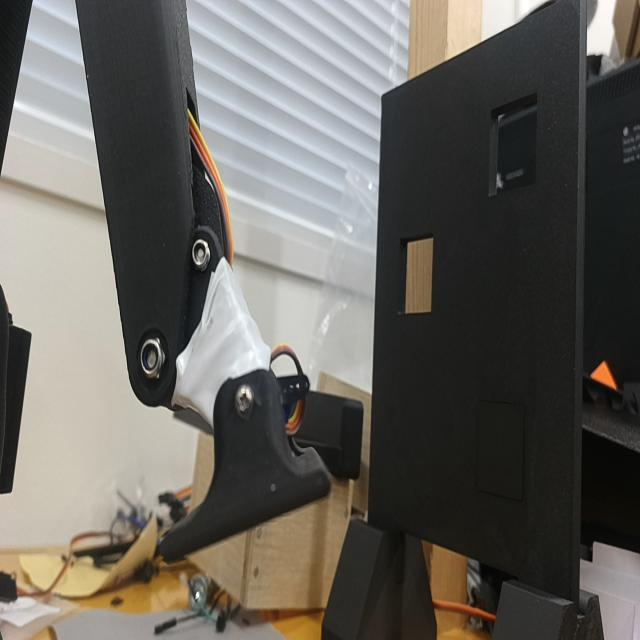Obstacle: (487, 94, 539, 200), (397, 235, 435, 317)
